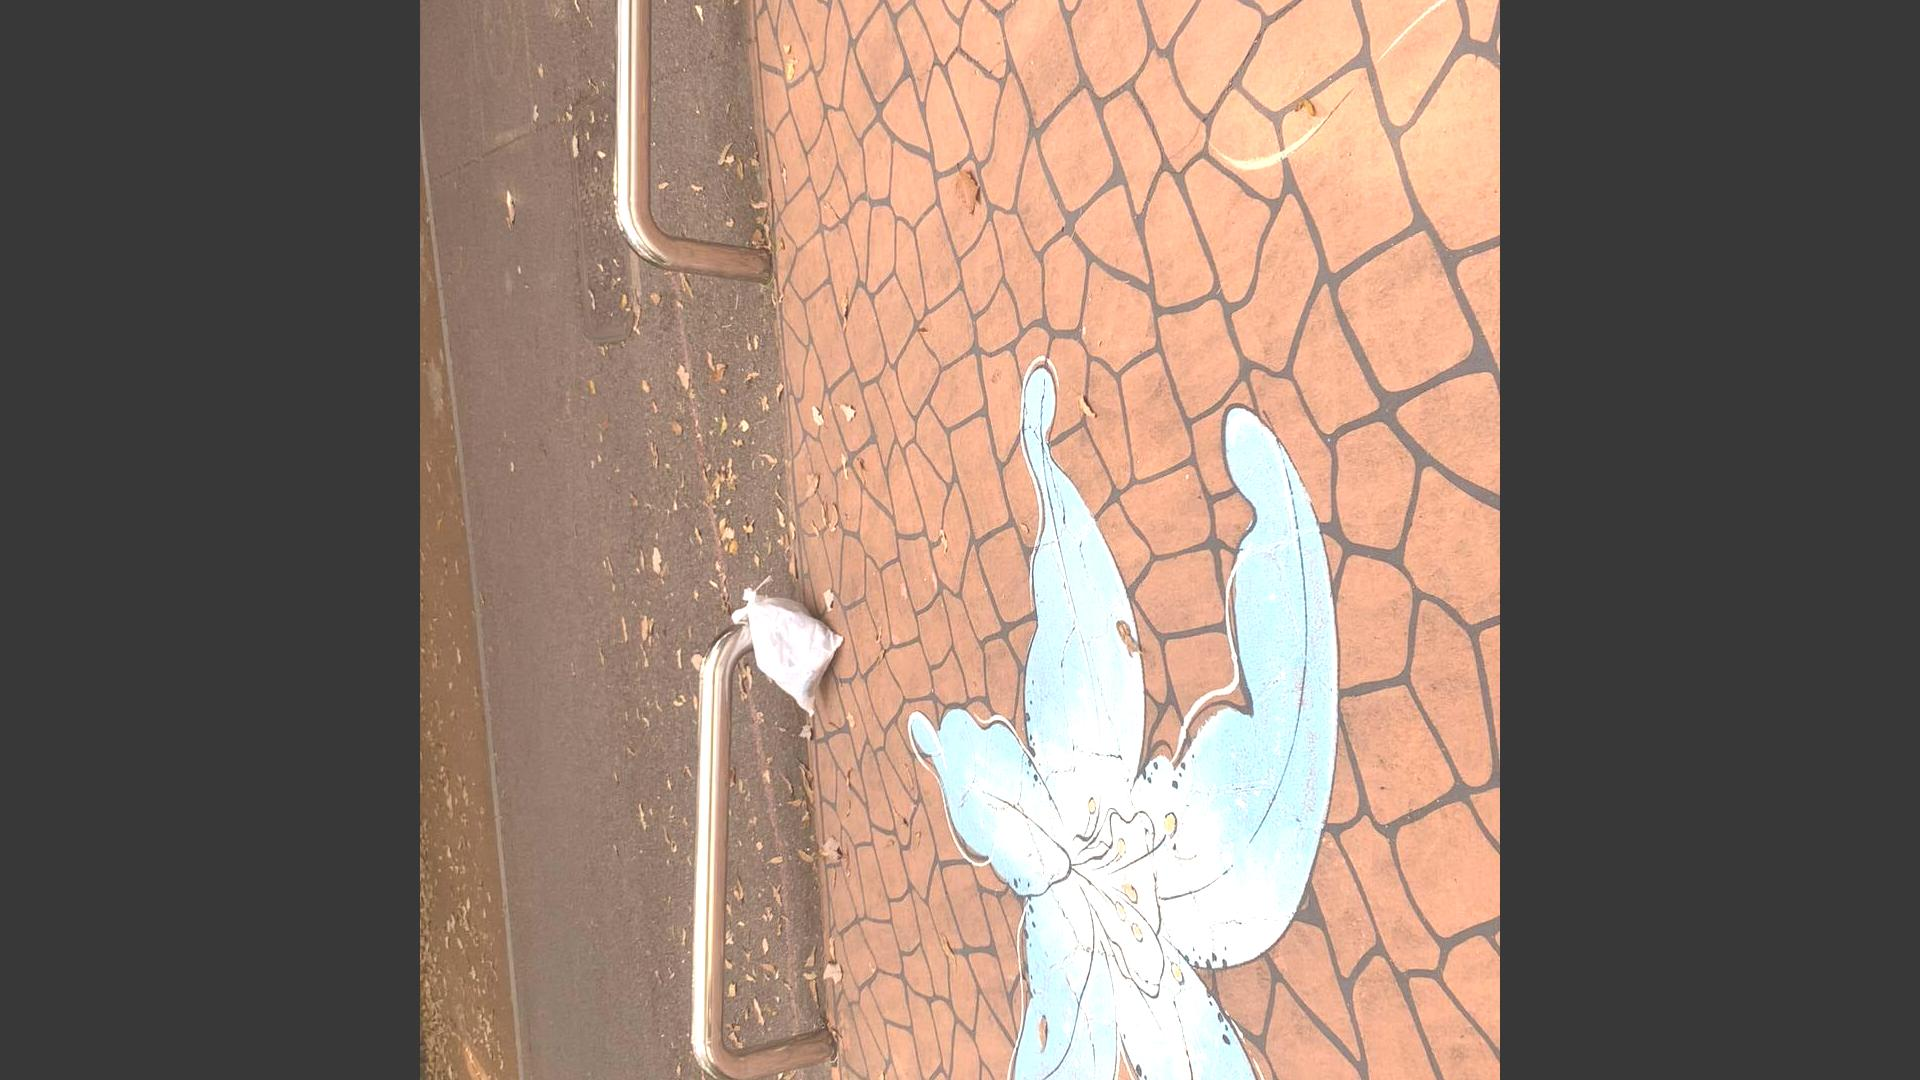white_bag: (723, 564, 851, 727)
